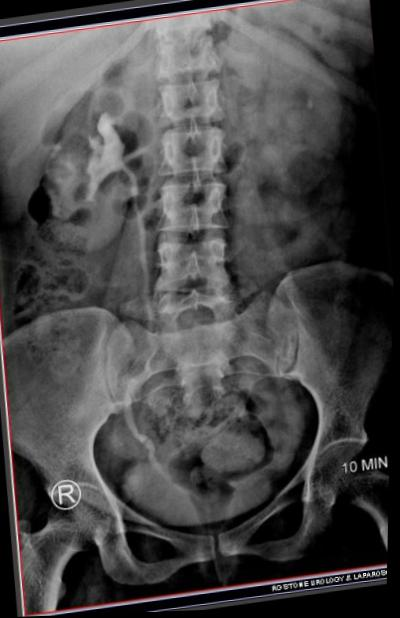right kidney: (21, 82, 137, 256)
